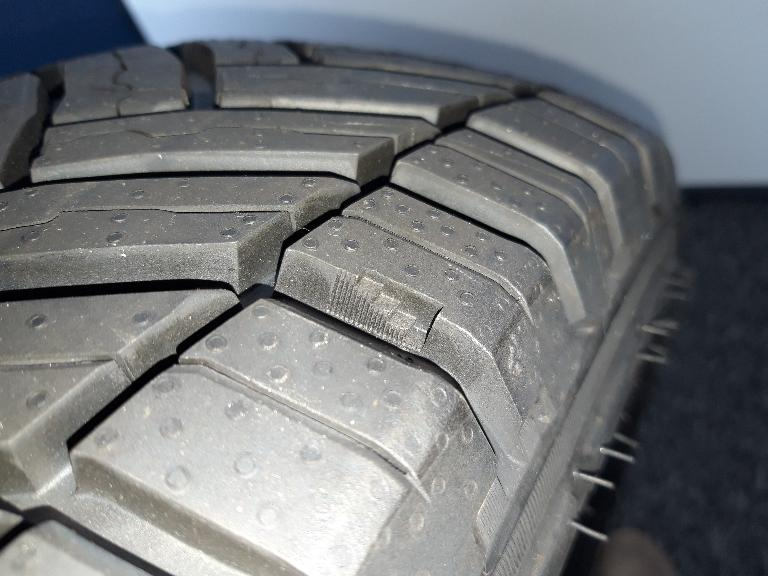temoin:100: (325, 264, 448, 358)
